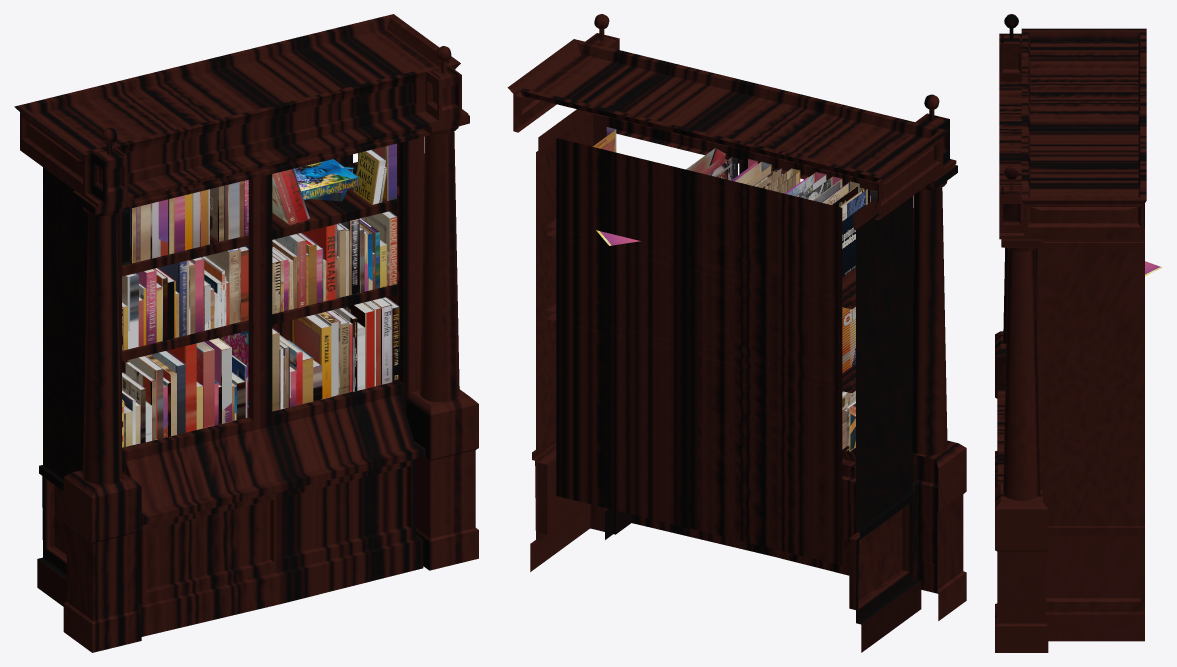
File: Shelf_Books.glb
3 views of the same model, side by side, from view 1: azimuth 30°, elevation 25°; view 2: azimuth 150°, elevation 25°; view 3: azimuth 270°, elevation 25° (orthographic). The views are drawn at different scales.
Parts seen in each view (by area): view 1: Shelf_Baked, Book_Baked; view 2: Shelf_Baked, Book_Baked; view 3: Shelf_Baked.
Part boxes in pixels (<box>): Shelf_Baked: <box>14,14,478,652</box>; Book_Baked: <box>122,143,399,447</box>; Shelf_Baked: <box>507,14,966,652</box>; Book_Baked: <box>592,127,877,451</box>; Shelf_Baked: <box>995,14,1146,652</box>.
Size of the model in its own units: 1.67 by 2.11 by 0.6743.
Materials: 2 (2 with a texture image).
